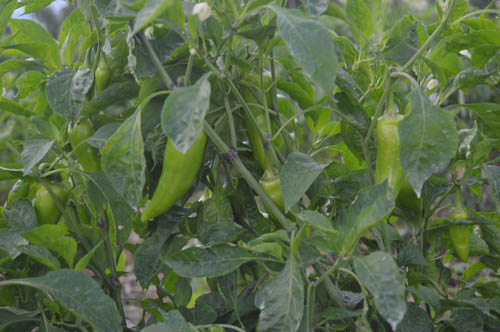ChiliPepper: (139, 135, 208, 227), (246, 72, 274, 167), (375, 114, 404, 203), (69, 118, 103, 171), (33, 186, 69, 225), (449, 212, 473, 262), (263, 173, 292, 210)
